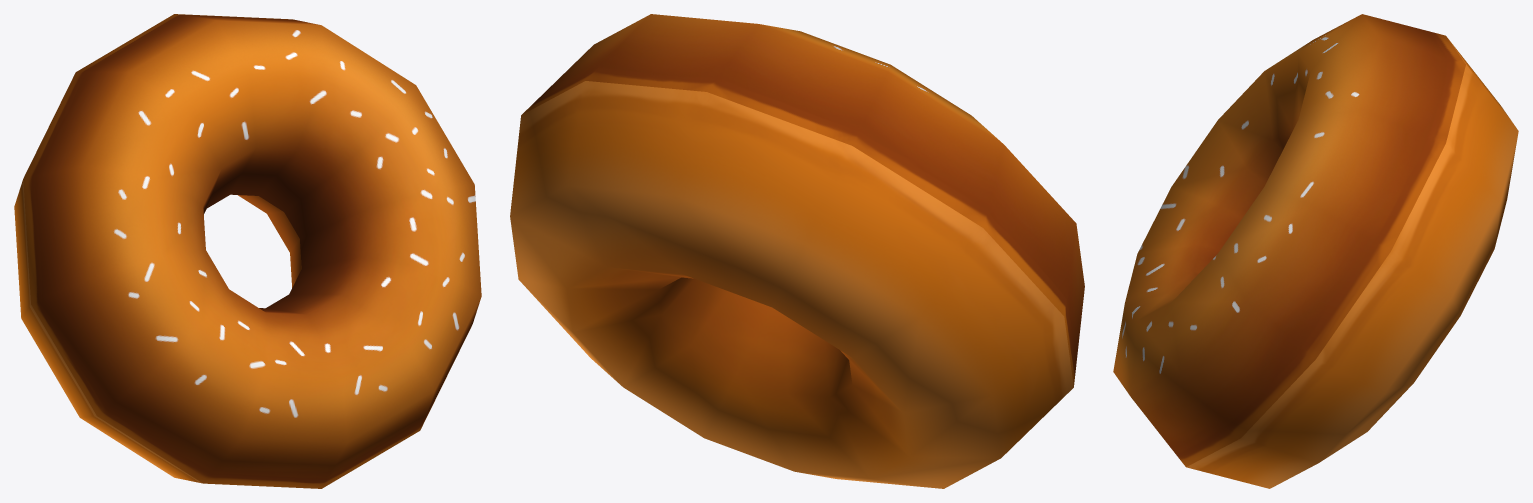
File: Donuts.FBX
3 views of the same model, side by side, from view 1: azimuth 30°, elevation 25°; view 2: azimuth 150°, elevation 25°; view 3: azimuth 270°, elevation 25° (orthographic). The views are drawn at different scales.
Parts seen in each view (by area): view 1: Donuts; view 2: Donuts; view 3: Donuts.
Boxes of the visible parts, box(x1,y1,x2,y2) form: Donuts: box(14, 14, 481, 488); Donuts: box(510, 14, 1084, 488); Donuts: box(1113, 14, 1518, 488).
Size of the model in its own units: 24.02 by 22 by 19.08.
